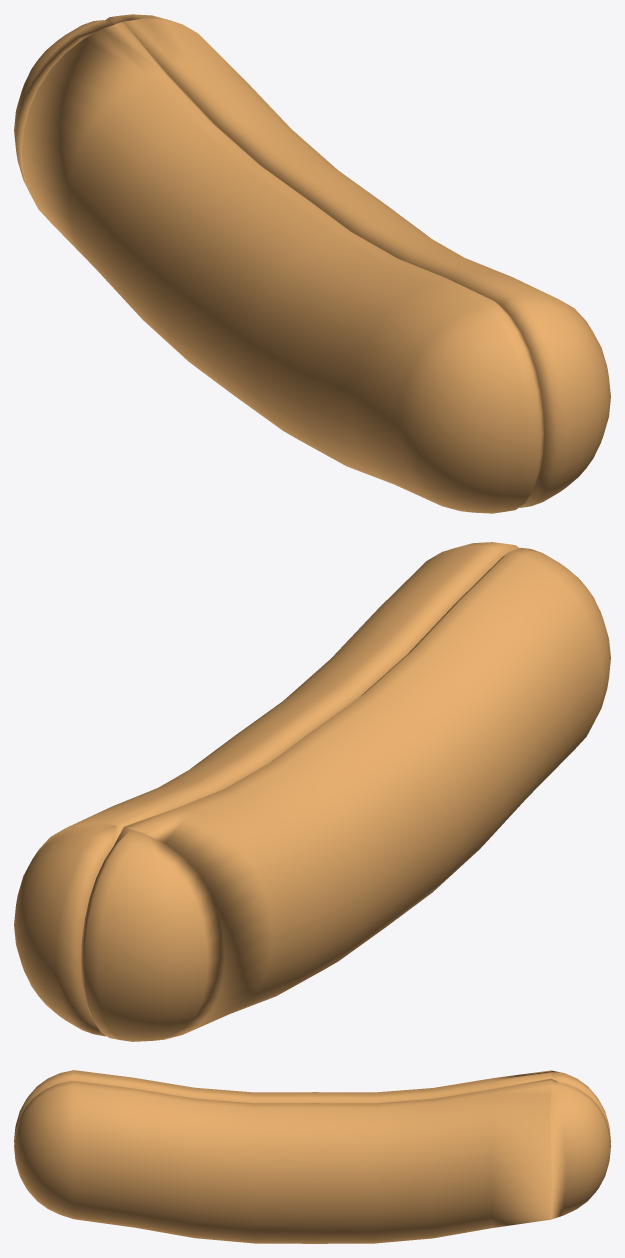
File: bread2.fbx
3 views of the same model, one above another, from view 1: azimuth 30°, elevation 25°; view 2: azimuth 150°, elevation 25°; view 3: azimuth 270°, elevation 25° (orthographic). The views are drawn at different scales.
Visible parts, largest first — view 1: HotdogBread; view 2: HotdogBread; view 3: HotdogBread.
Boxes of the visible parts, x1,y1,x2,y2 form: HotdogBread: (14, 14, 610, 513); HotdogBread: (14, 542, 610, 1041); HotdogBread: (14, 1070, 610, 1243).
Size of the model in its own units: 169 by 194 by 670.
